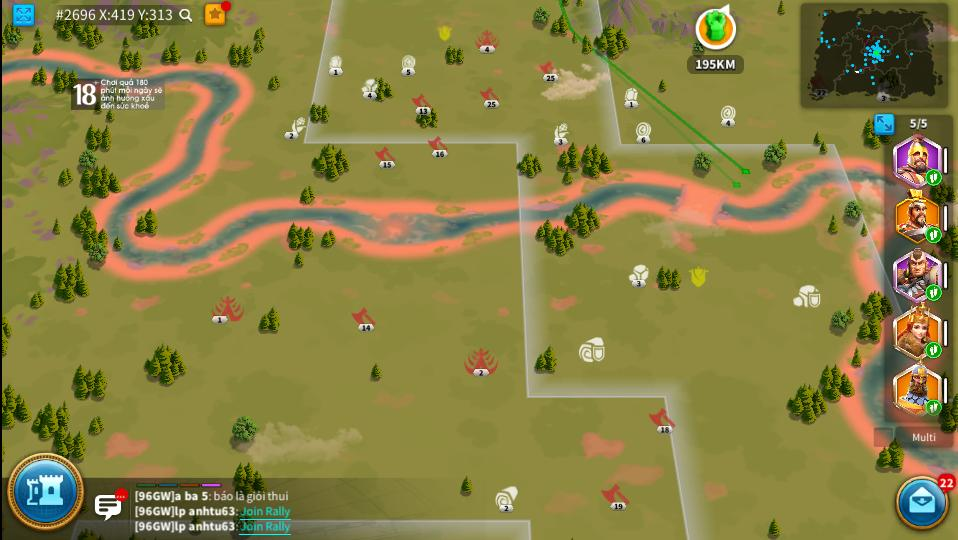gem-z-out: (329, 54, 344, 76), (624, 86, 639, 108)
march_marching: (925, 228, 942, 242), (926, 170, 940, 185), (927, 400, 941, 415), (926, 285, 940, 299), (928, 343, 940, 357)
